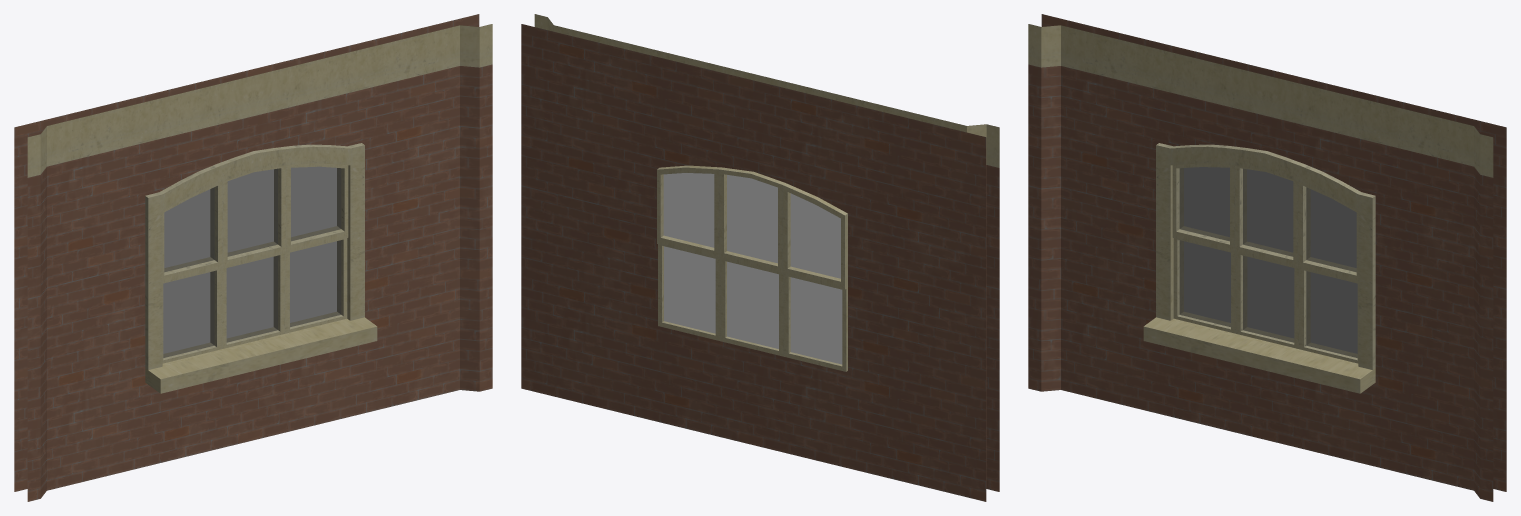
The model's file is brick_inset_window_curved.glb.
3 renders of one model, left to right at view 1: azimuth 30°, elevation 25°; view 2: azimuth 150°, elevation 25°; view 3: azimuth 330°, elevation 25°, orthographic.
Parts seen in each view (by area): view 1: Brick_Inset_Window_Curved; view 2: Brick_Inset_Window_Curved; view 3: Brick_Inset_Window_Curved.
Part boxes in pixels (left/top/right/bottom): Brick_Inset_Window_Curved: left=14, top=14, right=492, bottom=501; Brick_Inset_Window_Curved: left=521, top=14, right=999, bottom=501; Brick_Inset_Window_Curved: left=1028, top=14, right=1506, bottom=501.
Size of the model in its own units: 4 by 3 by 0.3737.
Materials: 5 (3 with a texture image).
